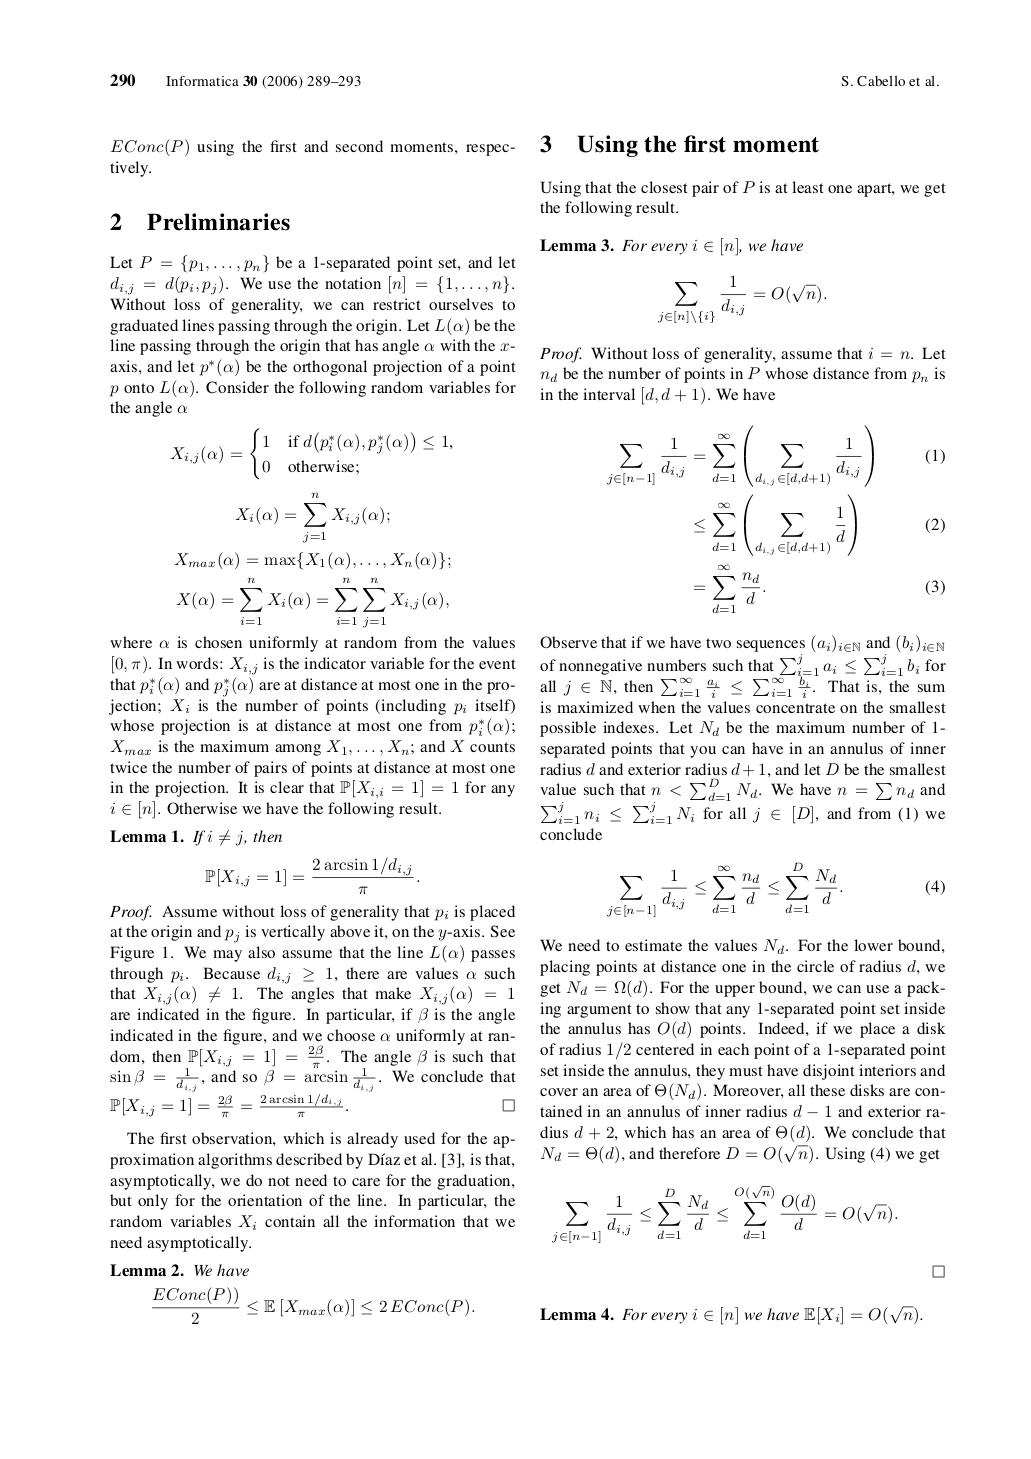figure: (932, 1264, 944, 1278)
formula: (607, 424, 944, 487), (552, 1185, 897, 1243), (607, 861, 944, 917), (694, 492, 944, 555), (170, 427, 452, 480), (176, 577, 449, 627), (694, 562, 944, 613), (152, 1285, 474, 1324), (110, 1094, 514, 1115), (205, 856, 420, 895), (658, 274, 826, 323), (235, 492, 389, 542), (174, 551, 450, 570)
